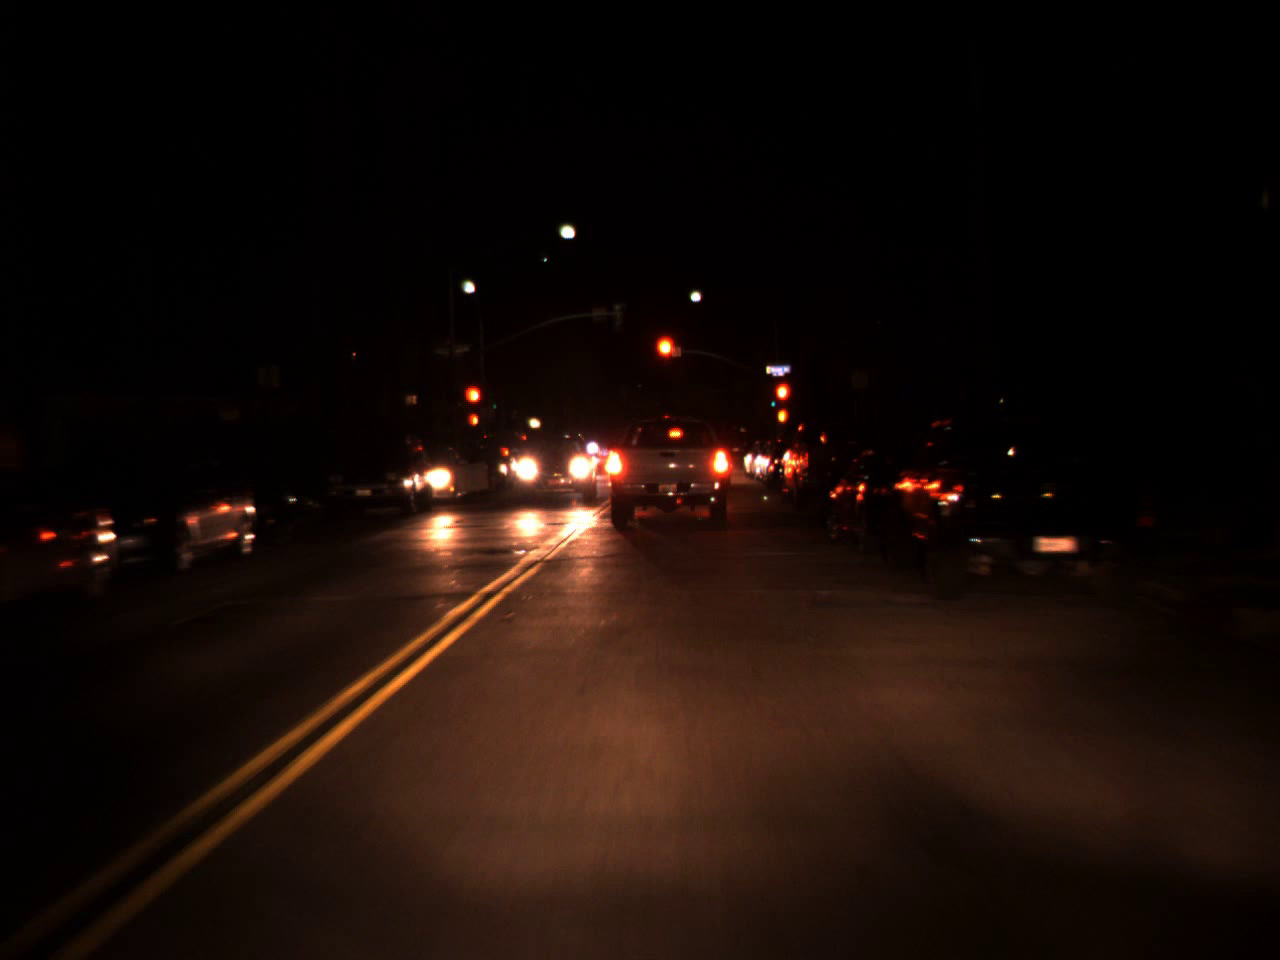stop: (652, 333, 679, 384), (772, 380, 793, 423), (462, 384, 483, 421)
